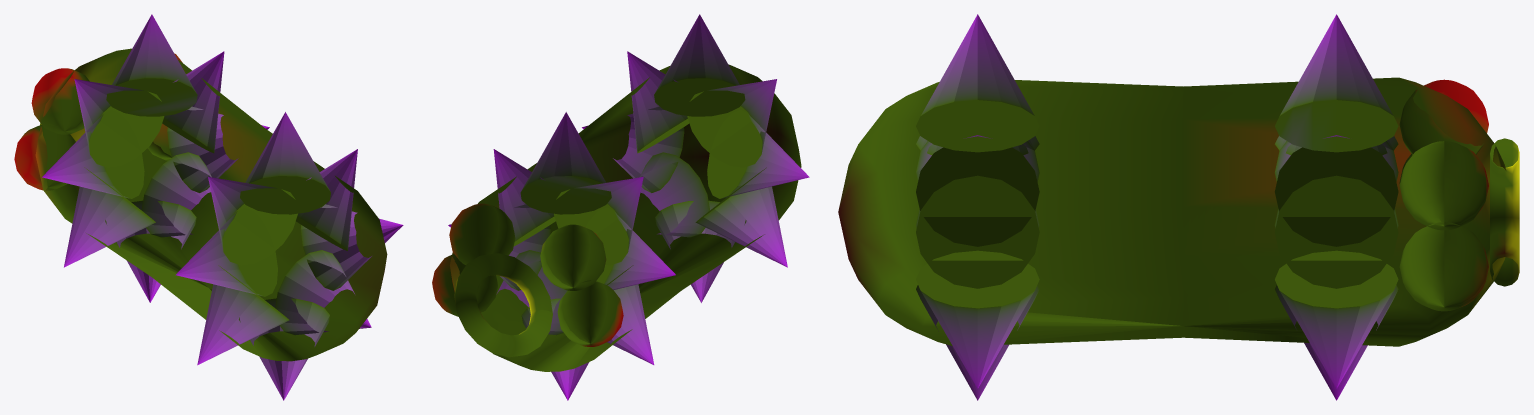
Rendered from swampsucker.glb.
3 views of the same model, side by side, from view 1: azimuth 30°, elevation 25°; view 2: azimuth 150°, elevation 25°; view 3: azimuth 270°, elevation 25° (orthographic). The views are drawn at different scales.
Visible parts, largest first — view 1: Swampsucker; view 2: Swampsucker; view 3: Swampsucker.
Part boxes in pixels (<box>): Swampsucker: <box>14,14,403,400</box>; Swampsucker: <box>432,14,809,400</box>; Swampsucker: <box>838,14,1519,400</box>.
Bounding box in the file's own units: 0.523 × 0.6322 × 1.01.
